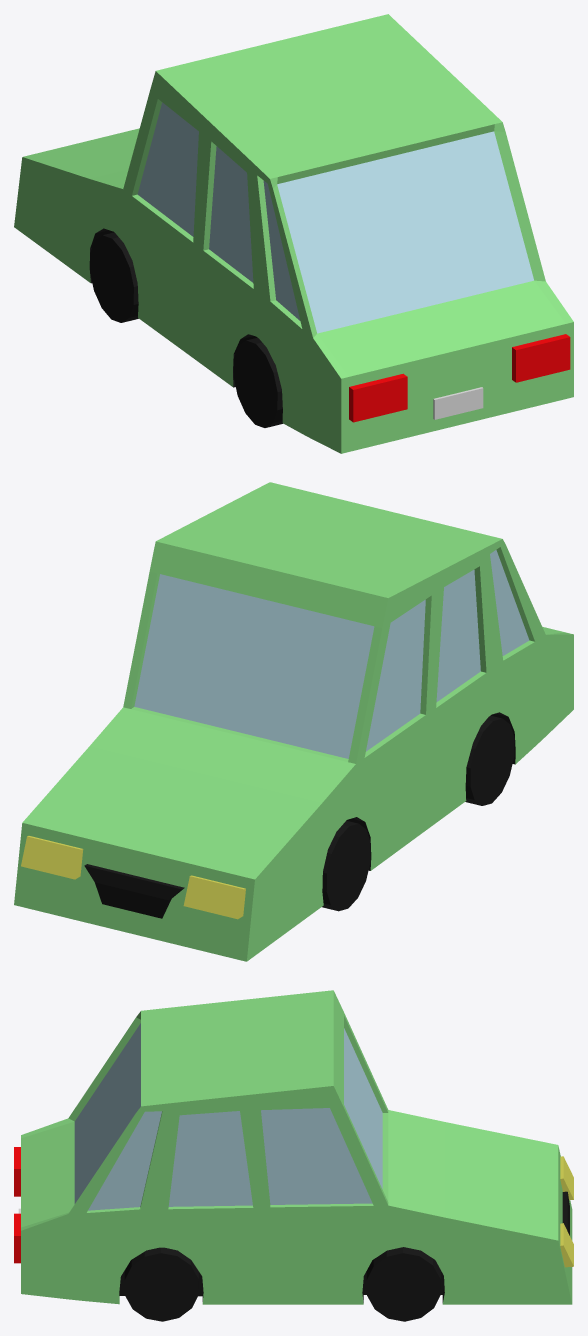
File: Masinuta.fbx
3 views of the same model, one above another, from view 1: azimuth 30°, elevation 25°; view 2: azimuth 150°, elevation 25°; view 3: azimuth 270°, elevation 25° (orthographic). The views are drawn at different scales.
Parts seen in each view (by area): view 1: Cube; view 2: Cube; view 3: Cube.
Boxes of the visible parts, x1,y1,x2,y2 form: Cube: (14,14,573,453); Cube: (14,482,573,961); Cube: (14,990,573,1321).
Size of the model in its own units: 204 by 229 by 495.
